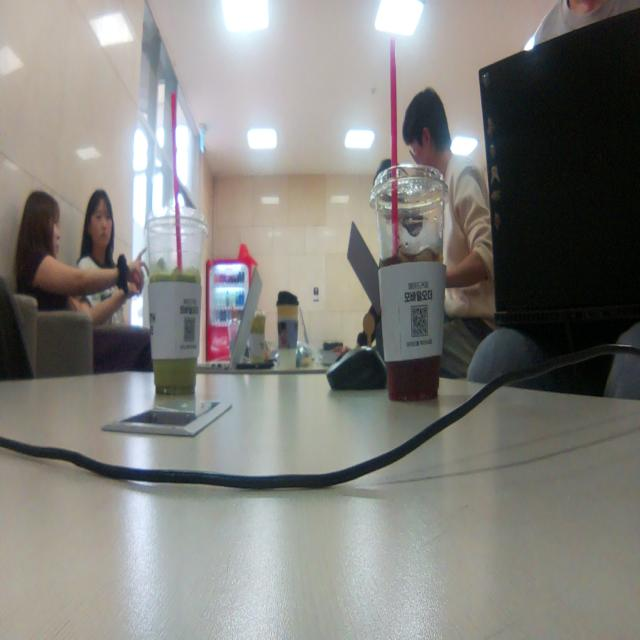target: (362, 313, 376, 350)
